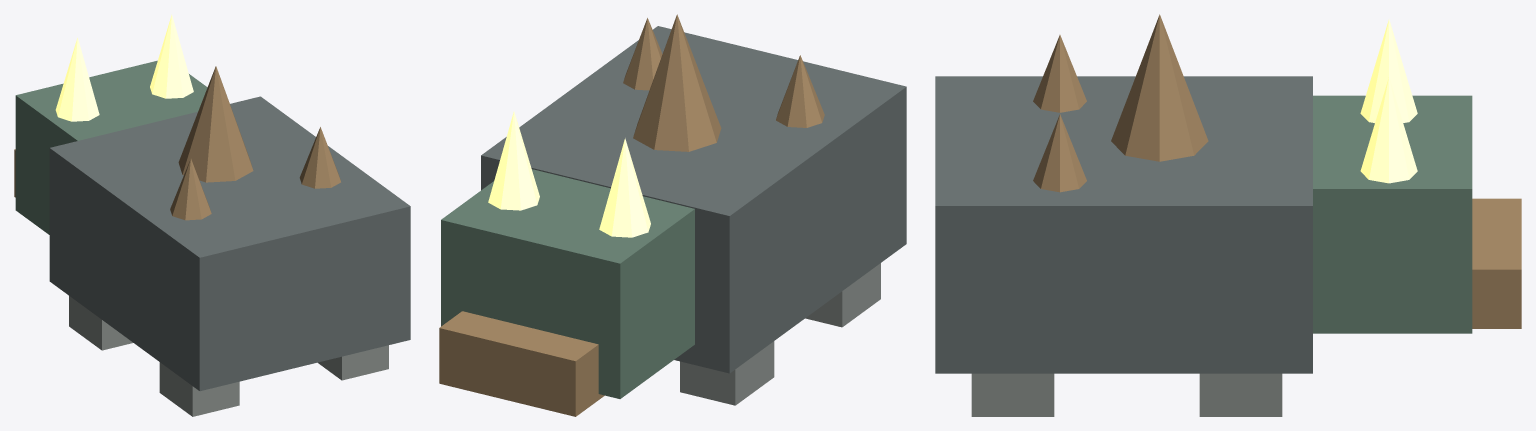
File: qi_eating_stone_beast.glb
The picture shows the model from 3 angles, left to right: view 1: azimuth 30°, elevation 25°; view 2: azimuth 150°, elevation 25°; view 3: azimuth 270°, elevation 25°; orthographic projection. The views are drawn at different scales.
Visible parts, largest first — view 1: qi_eating_stone_beast; view 2: qi_eating_stone_beast; view 3: qi_eating_stone_beast.
Part boxes in pixels (x1,y1,x2,y2): qi_eating_stone_beast: [14, 14, 410, 416]; qi_eating_stone_beast: [439, 14, 906, 416]; qi_eating_stone_beast: [935, 14, 1521, 416].
Size of the model in its own units: 2.15 by 2.65 by 4.12.
6 materials, 6 textured.
